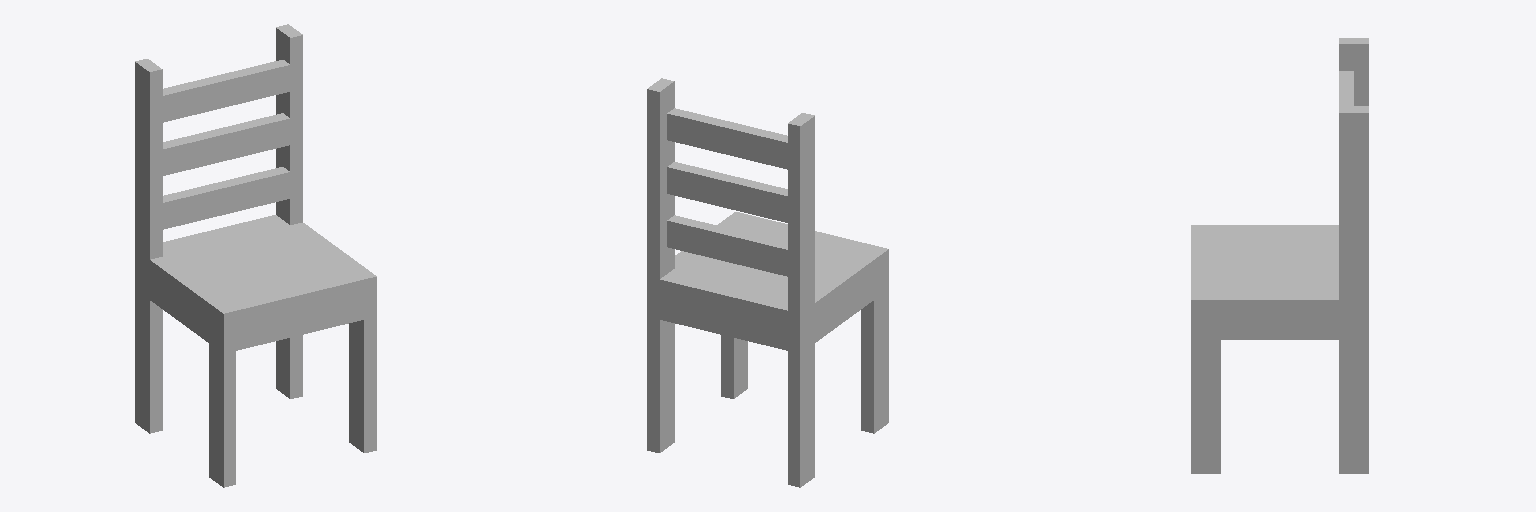
The model's file is BlueChair.obj.
3 views of the same model, side by side, from view 1: azimuth 30°, elevation 25°; view 2: azimuth 150°, elevation 25°; view 3: azimuth 270°, elevation 25° (orthographic).
Parts seen in each view (by area): view 1: object 1; view 2: object 1; view 3: object 1.
Part boxes in pixels (x1,y1,x2,y2): object 1: (135,24,376,487); object 1: (647,78,888,487); object 1: (1191,38,1368,473).
Bounding box in the file's own units: 2.4 × 5.4 × 2.4.